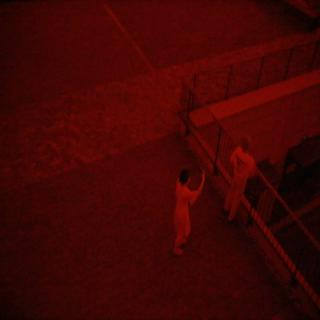person: (167, 163, 206, 259), (220, 134, 260, 224)
